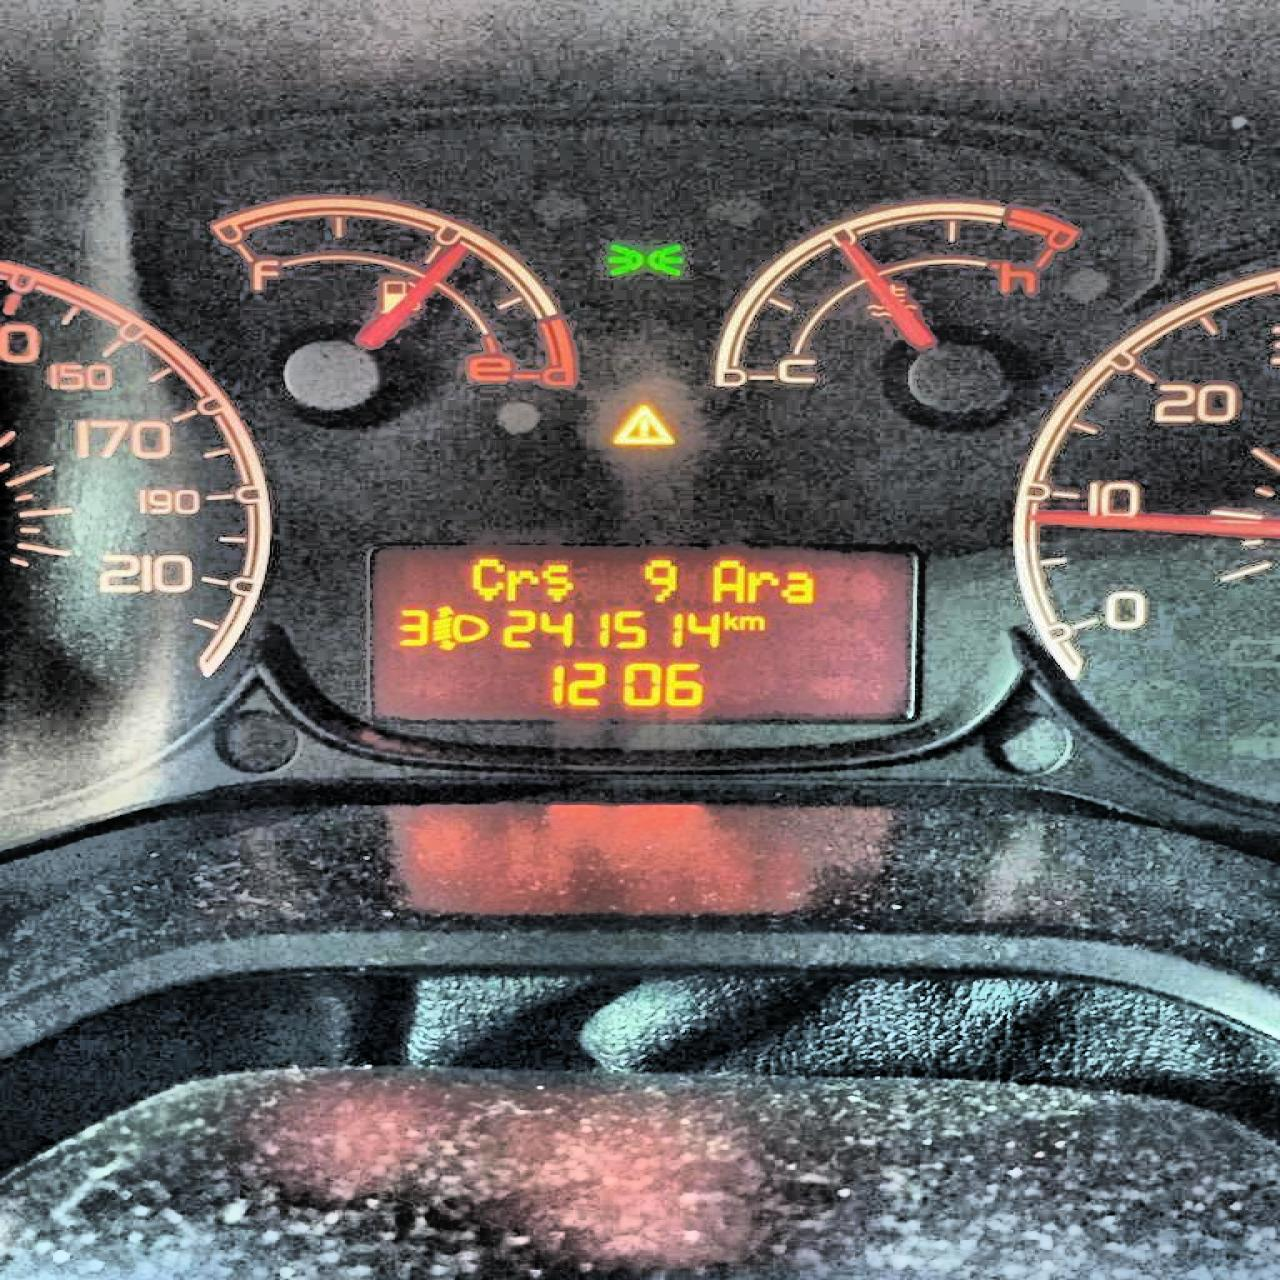0: (620, 660, 662, 706)
1: (549, 660, 565, 706), (595, 610, 610, 649), (669, 611, 683, 648)
2: (567, 660, 605, 704), (501, 607, 535, 648)
3: (395, 605, 428, 647)
4: (538, 608, 574, 647), (687, 611, 722, 648)
5: (612, 610, 645, 649)
6: (663, 660, 703, 706)
9: (644, 558, 680, 602)
X: (710, 559, 743, 605), (470, 558, 503, 601), (538, 564, 574, 600), (777, 568, 813, 604), (743, 567, 778, 602), (505, 567, 538, 601), (737, 614, 765, 629), (722, 610, 736, 629)
odometer: (361, 540, 921, 726)
